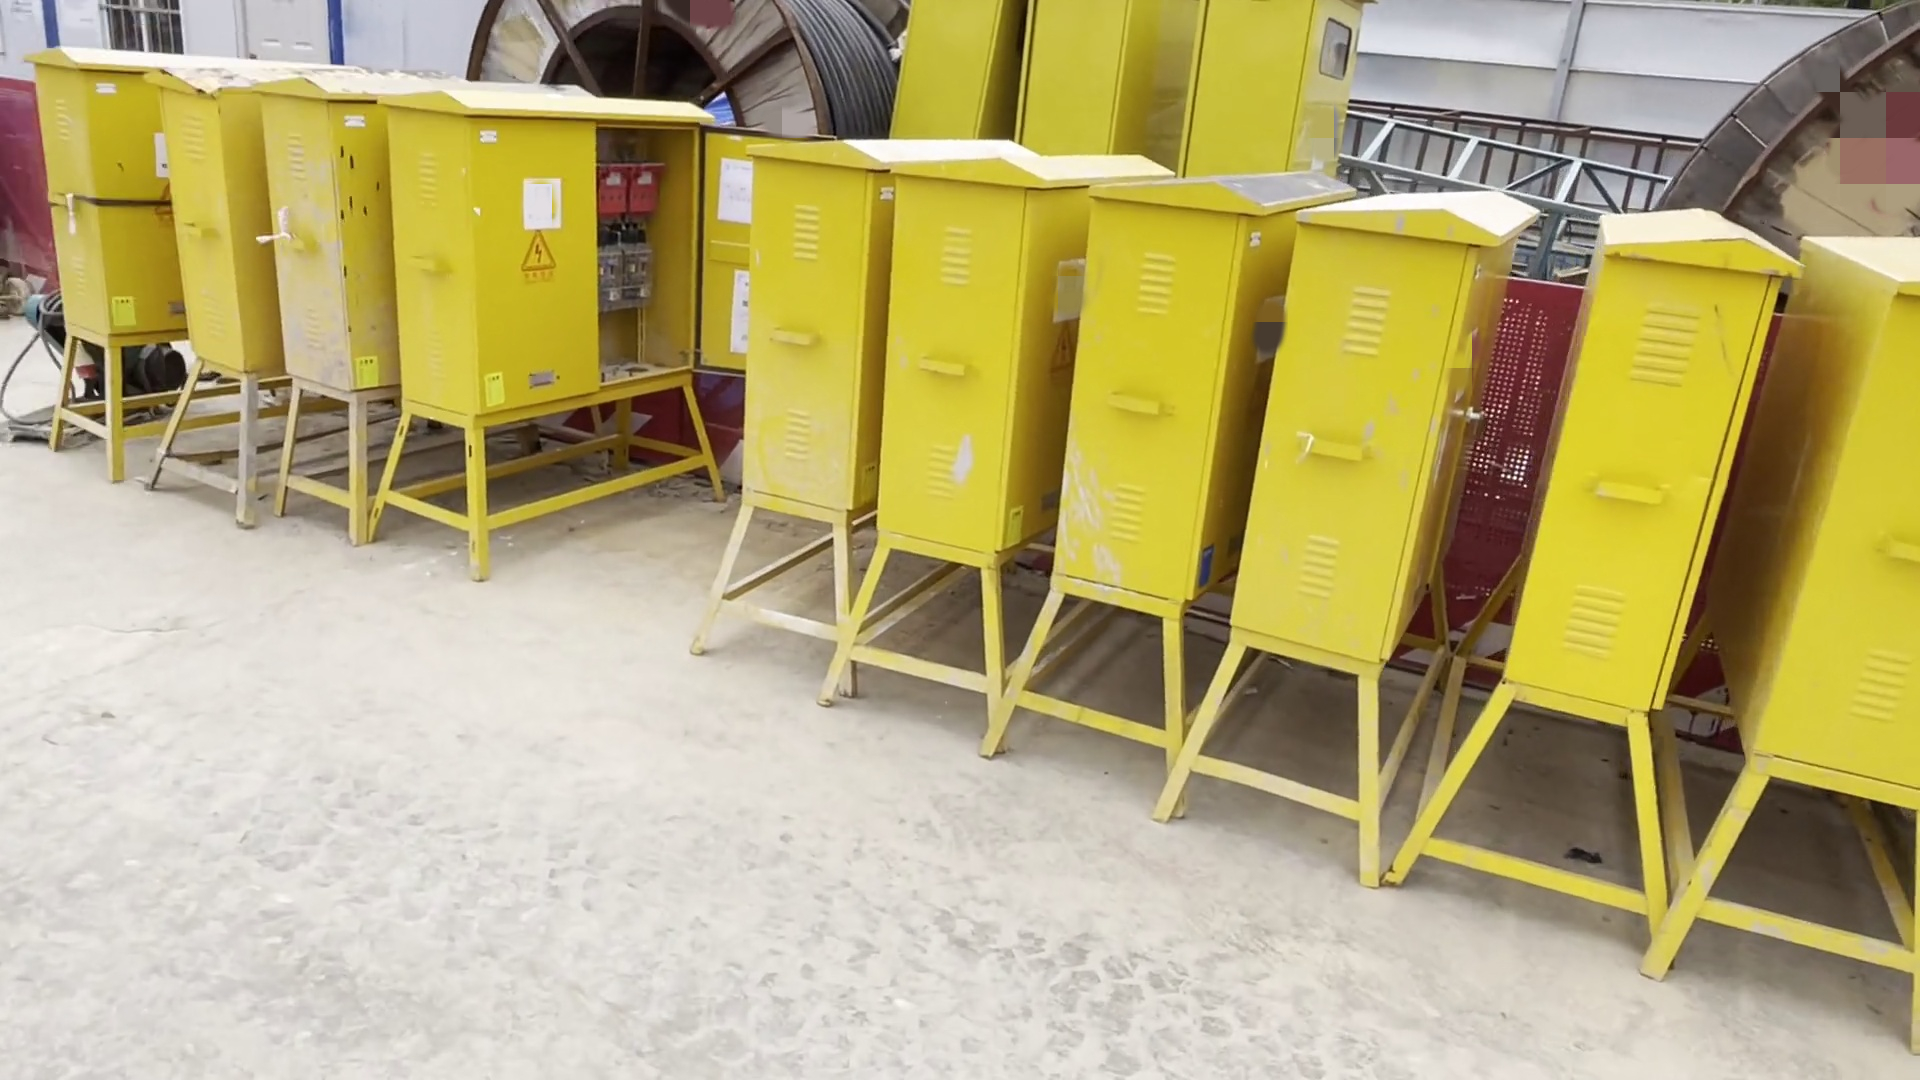ebox: (1402, 207, 1803, 898), (1149, 200, 1527, 829), (1642, 220, 1920, 986), (986, 171, 1329, 760), (824, 145, 1156, 712), (371, 83, 727, 556), (698, 145, 1013, 649), (26, 29, 251, 504), (272, 50, 481, 522), (156, 59, 385, 485), (1182, 1, 1349, 181), (1021, 1, 1168, 164), (882, 1, 1022, 138)
